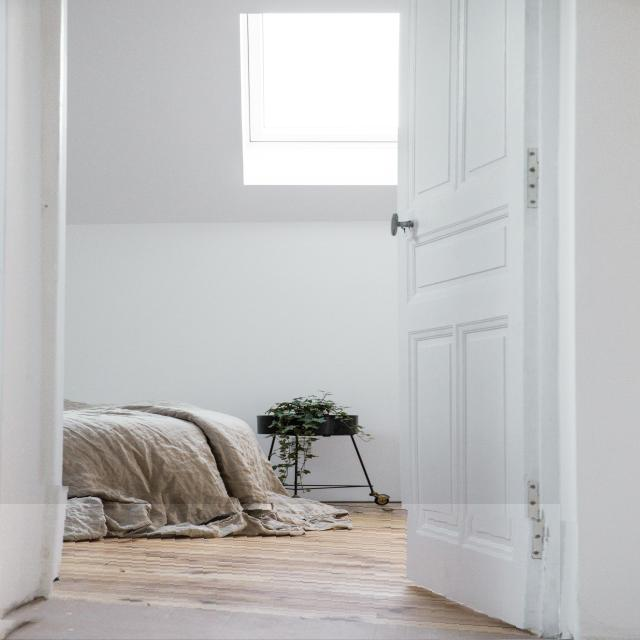floor: (0, 504, 560, 640)
